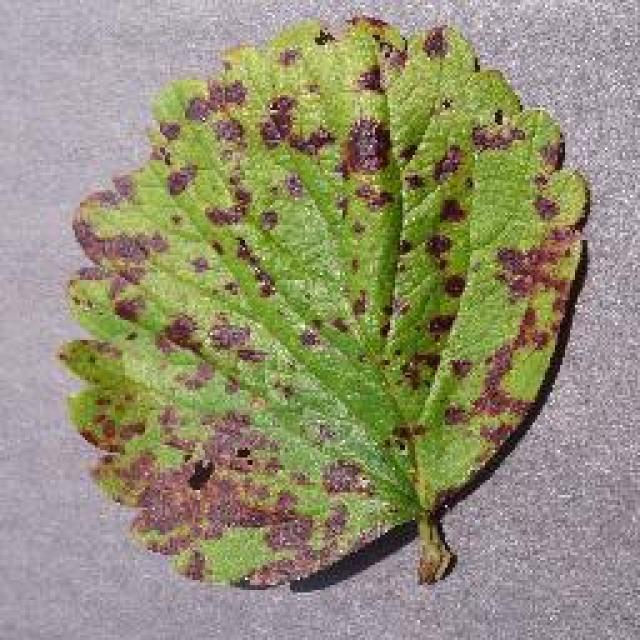Strawberry___Leaf_scorch: (40, 0, 607, 612)
